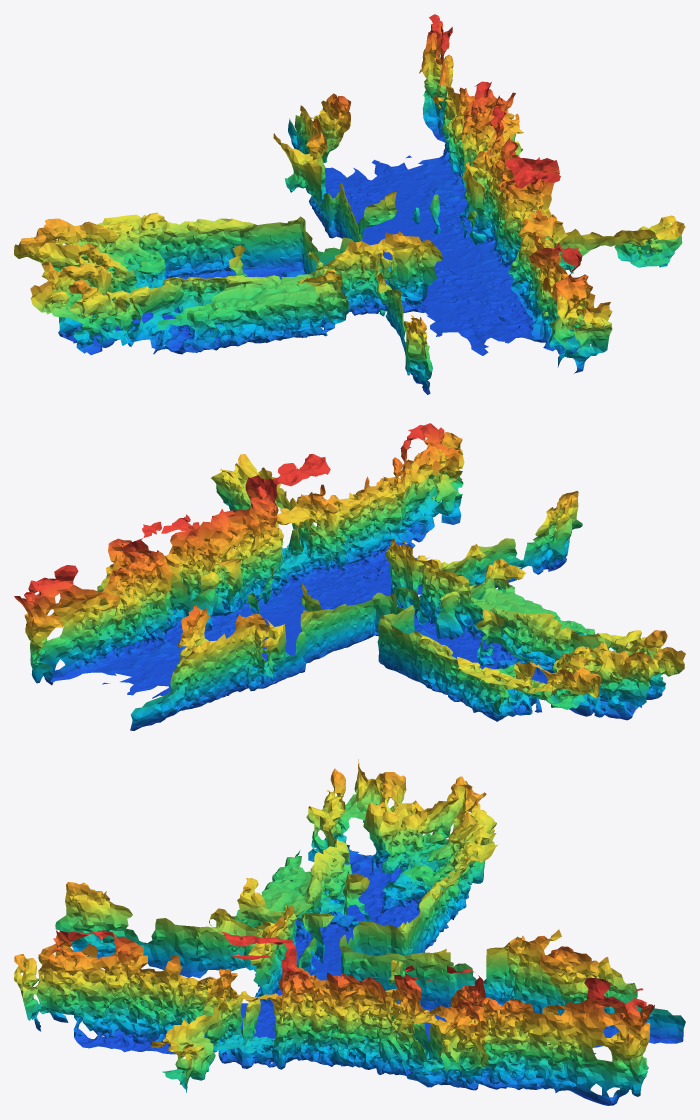
File: hallway-001_surface.obj
3 views of the same model, one above another, from view 1: azimuth 30°, elevation 25°; view 2: azimuth 150°, elevation 25°; view 3: azimuth 270°, elevation 25° (orthographic). The views are drawn at different scales.
Size of the model in its own units: 12.01 by 2.45 by 11.73.
Materials: 1 (1 with a texture image).
